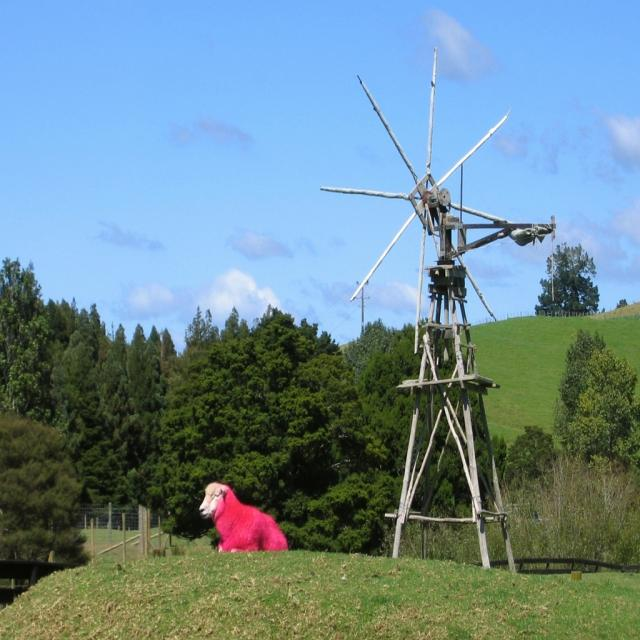Sheep: (199, 482, 288, 552)
